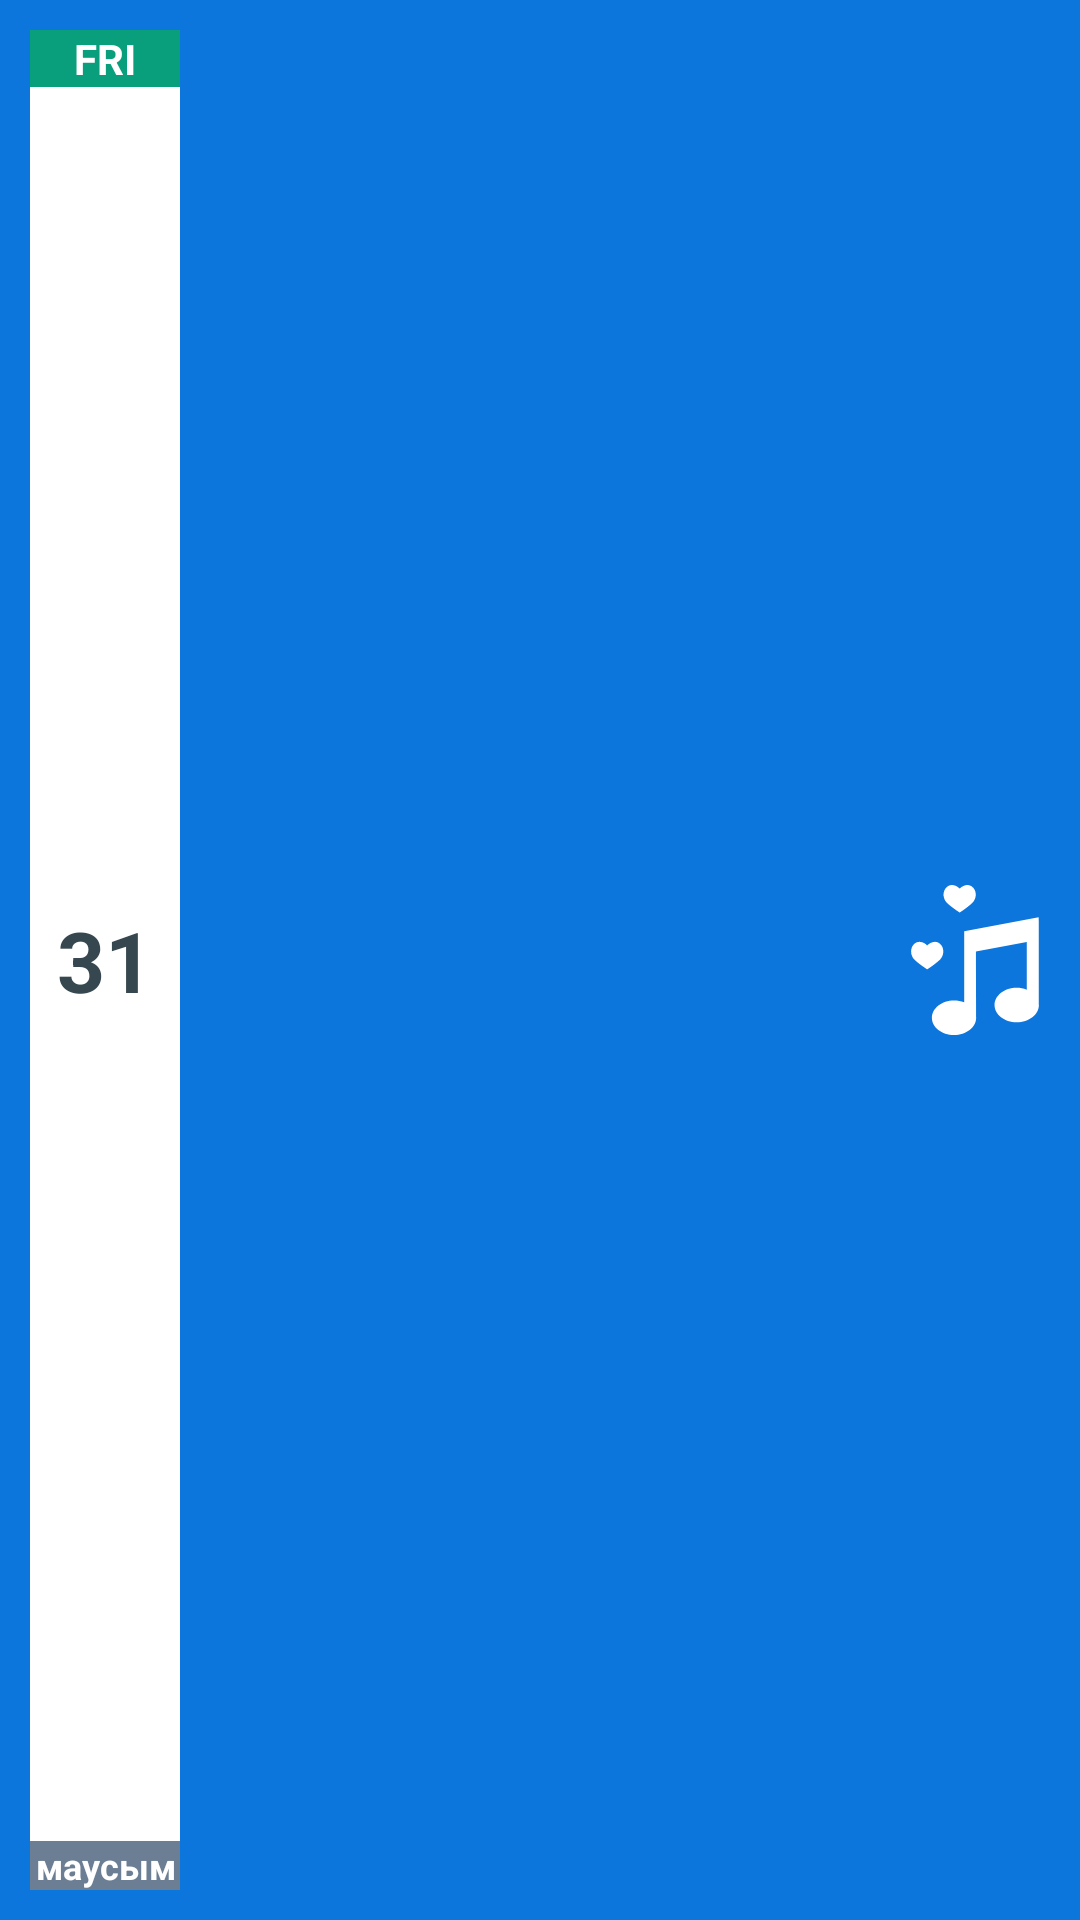

Named icons in this screenshot (1080*1920) and their centers, (x,y):
love music: (975,960)
